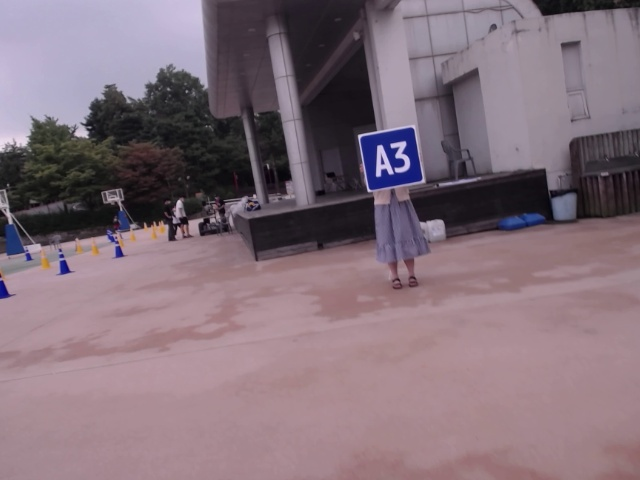delivery_a3: (359, 126, 425, 192)
